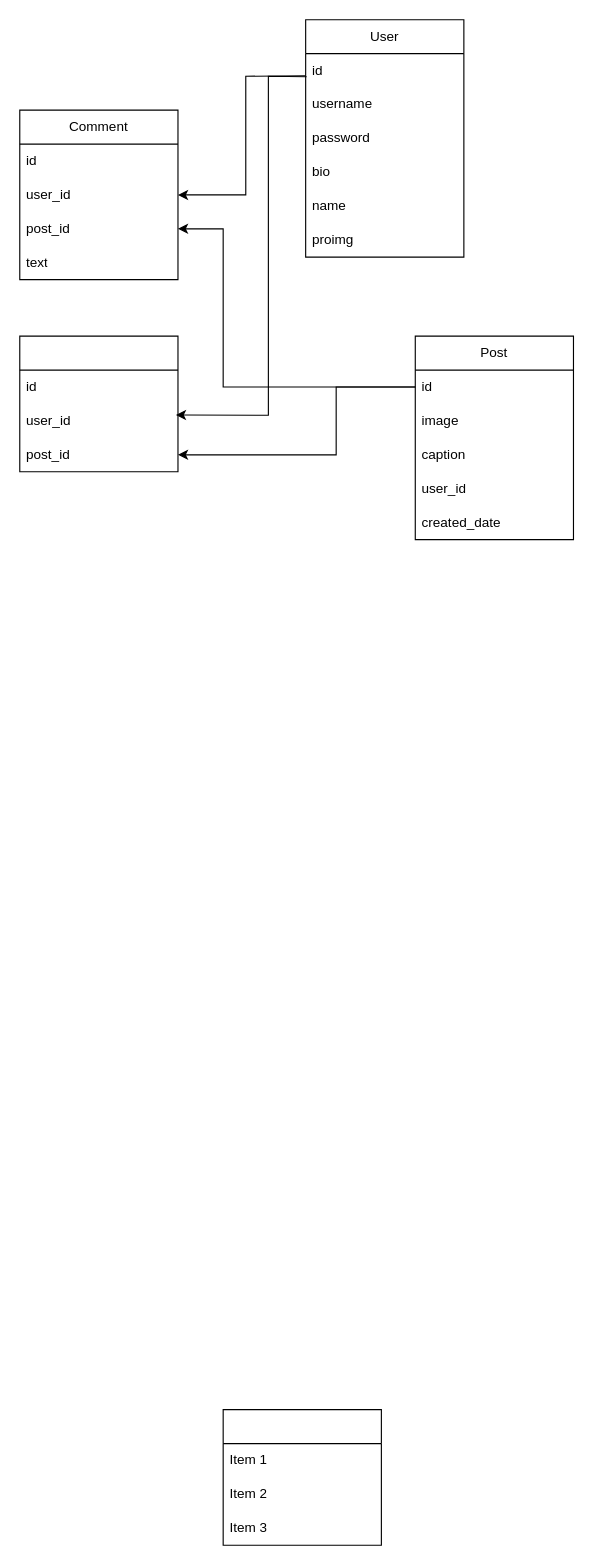
The diagram is 593 pixels wide and 1565 high, and some of its shapes have lost their labels. The box of each missing label's shape, as (x1, y1, x2, y2) in pixels:
Like: (19, 335, 178, 472)
List: (222, 1409, 381, 1545)
